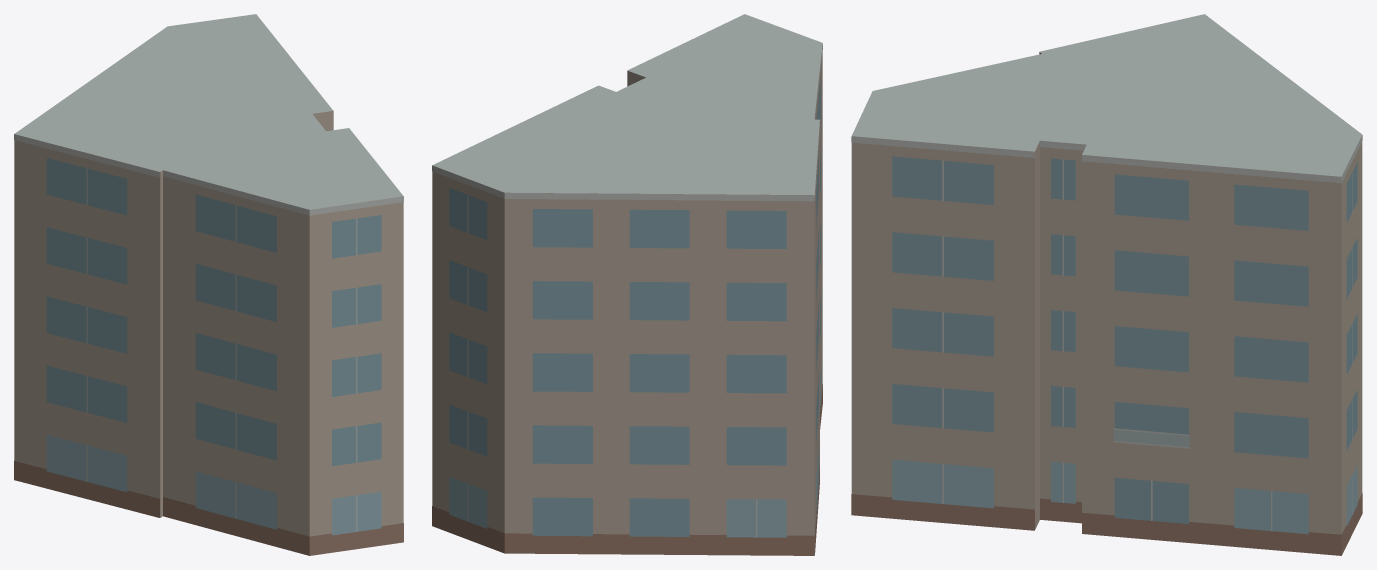
The model's file is survey-upis-32762736.glb.
3 views of the same model, side by side, from view 1: azimuth 30°, elevation 25°; view 2: azimuth 150°, elevation 25°; view 3: azimuth 270°, elevation 25° (orthographic). The views are drawn at different scales.
Visible parts, largest first — view 1: survey-upis-32762736.tmp; view 2: survey-upis-32762736.tmp; view 3: survey-upis-32762736.tmp.
Part boxes in pixels (x1=…): survey-upis-32762736.tmp: x1=14, y1=14, x2=403, y2=555; survey-upis-32762736.tmp: x1=432, y1=14, x2=822, y2=555; survey-upis-32762736.tmp: x1=851, y1=14, x2=1362, y2=555.
Bounding box in the file's own units: 13.32 × 14.45 × 17.66.
